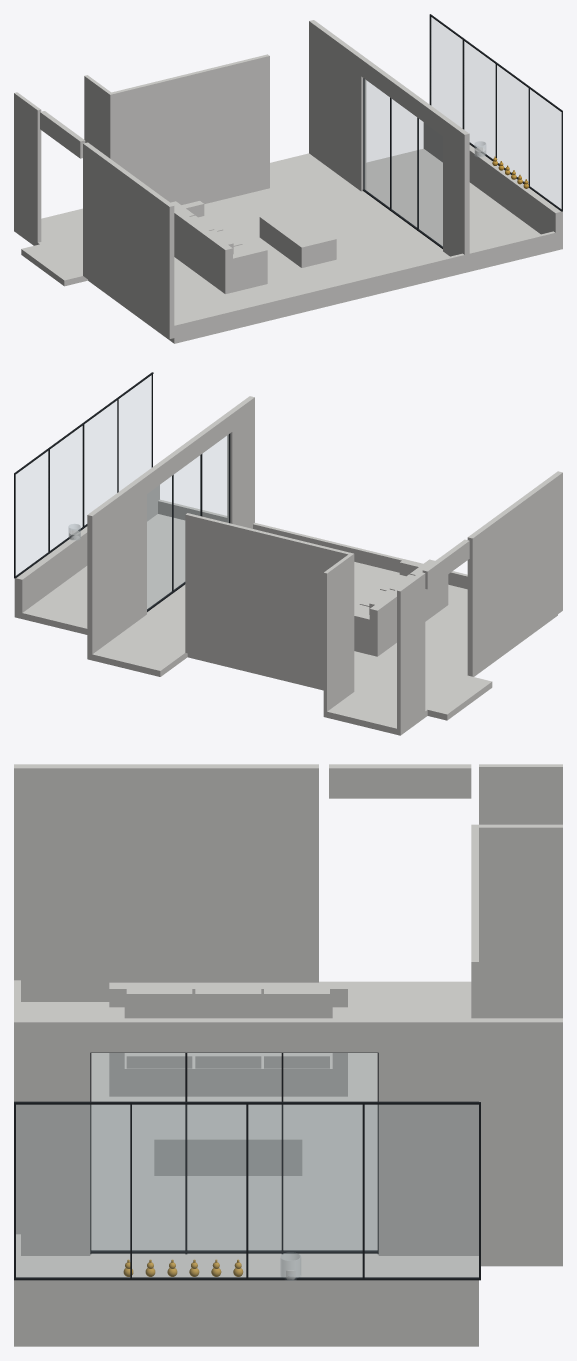
File: yu_d_living.glb
3 views of the same model, one above another, from view 1: azimuth 30°, elevation 25°; view 2: azimuth 150°, elevation 25°; view 3: azimuth 270°, elevation 25° (orthographic). The views are drawn at different scales.
Parts seen in each view (by area): view 1: yu_d_living (×4); view 2: yu_d_living (×4); view 3: yu_d_living (×5).
Boxes of the visible parts, x1,y1,x2,y2 form: yu_d_living (×4): (14, 14, 562, 343); yu_d_living (×4): (14, 372, 562, 735); yu_d_living (×5): (14, 764, 562, 1346).
Bounding box in the file's own units: 0.882 × 0.282 × 0.5754.
